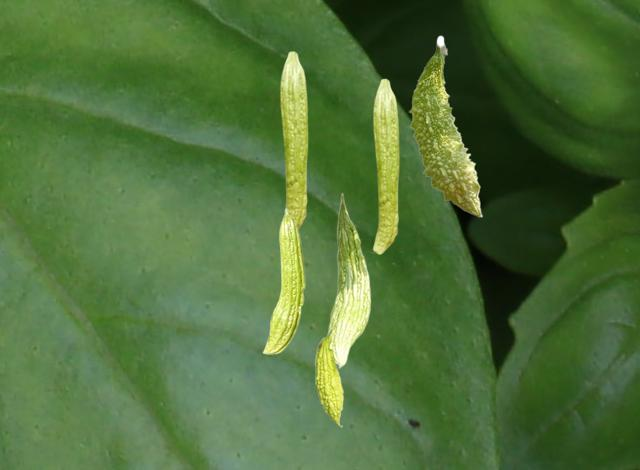ampalaya: (408, 35, 483, 218), (327, 192, 371, 369), (262, 208, 306, 355), (280, 50, 308, 228), (372, 78, 399, 255), (314, 328, 343, 428)
